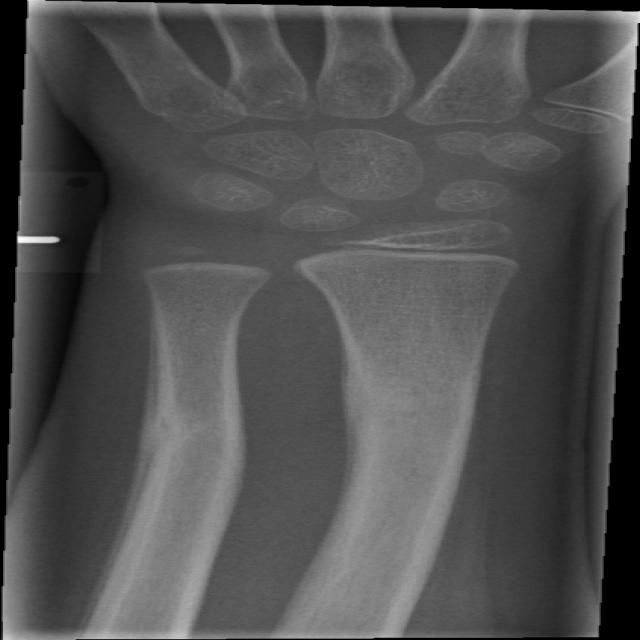radius fracture: (294, 343, 529, 518)
ulna fracture: (99, 358, 290, 542)
